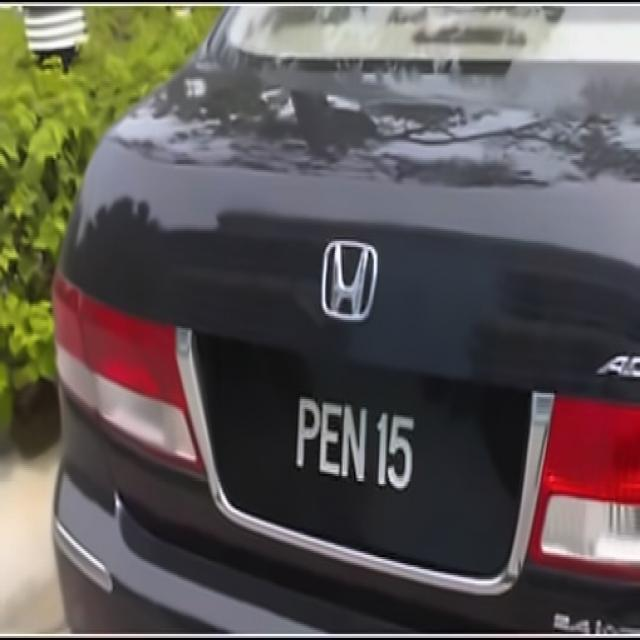car-plate: (189, 330, 533, 590)
